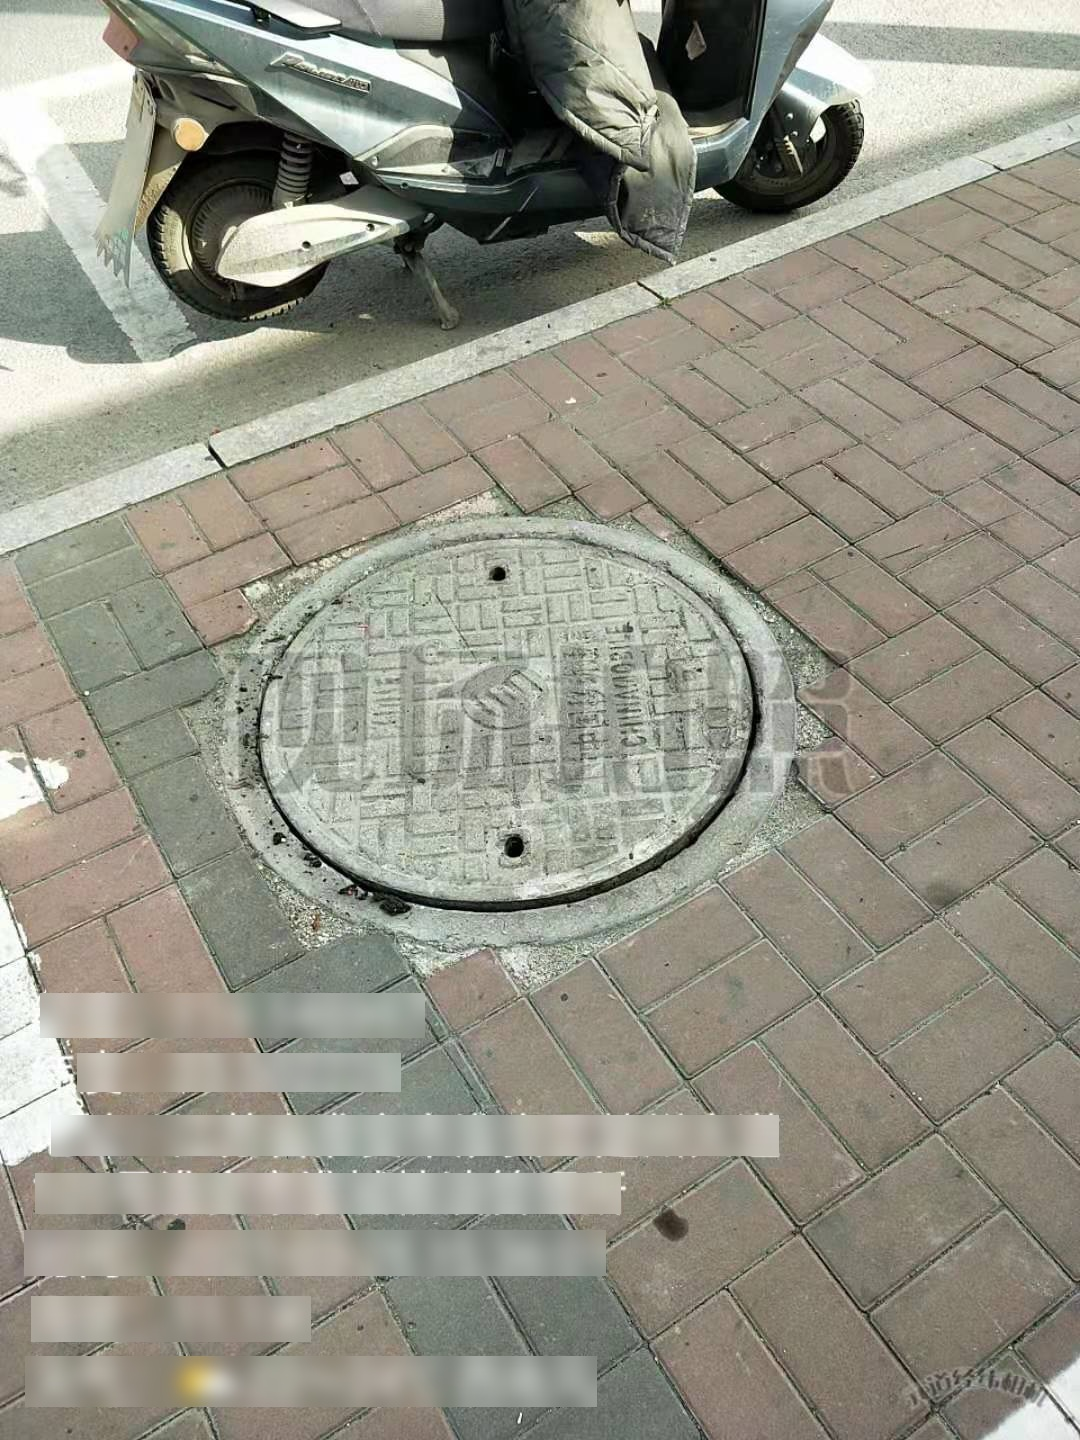good: (216, 516, 798, 945)
